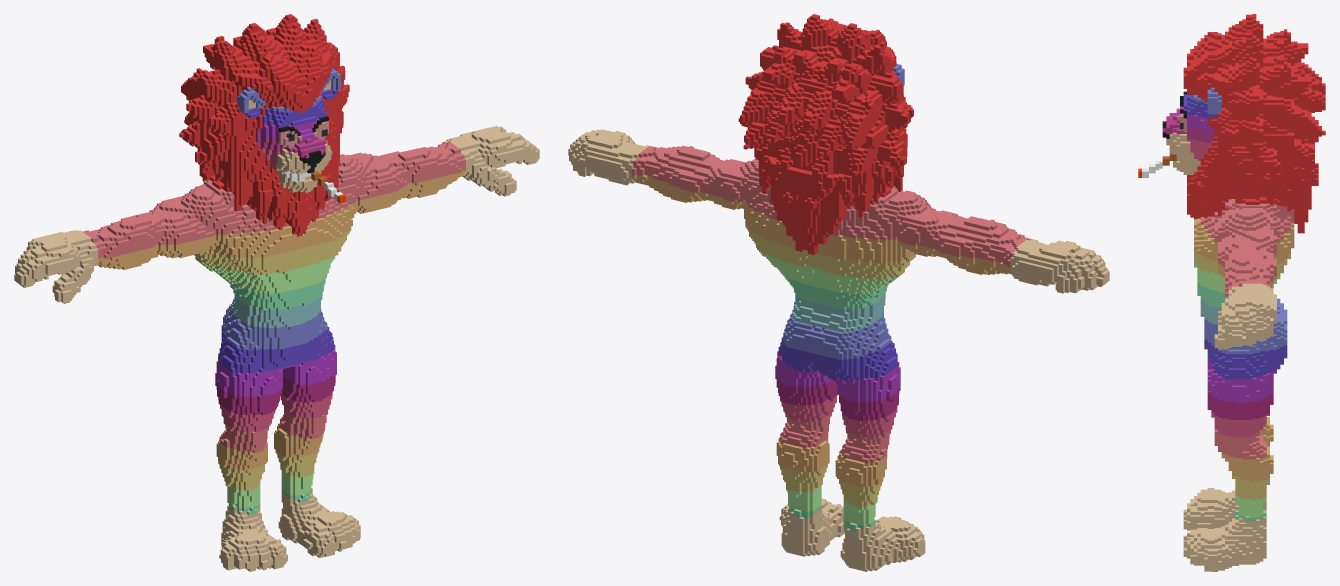
Rendered from 939-Djah2GET.glb.
3 views of the same model, side by side, from view 1: azimuth 30°, elevation 25°; view 2: azimuth 150°, elevation 25°; view 3: azimuth 270°, elevation 25° (orthographic). The views are drawn at different scales.
Visible parts, largest first — view 1: cigarette; view 2: cigarette; view 3: cigarette.
Part boxes in pixels (<box>): cigarette: <box>14,14,539,571</box>; cigarette: <box>568,14,1109,571</box>; cigarette: <box>1138,14,1325,571</box>.
Bounding box in the file's own units: 17.2 × 16.5 × 5.4.
4 materials, 4 textured.
